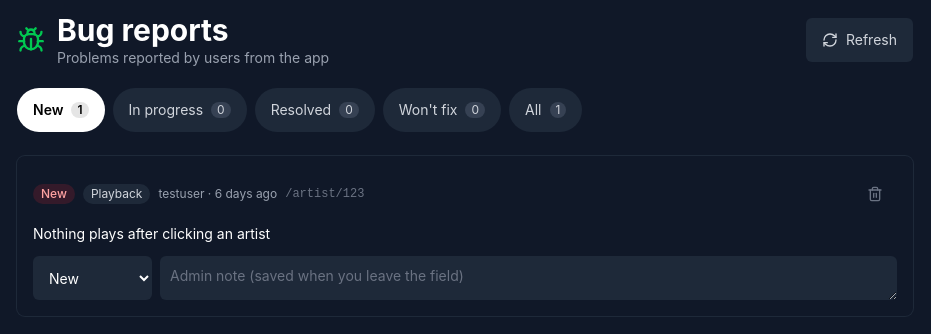
Test: AdminBugReports › deletes a report when the admin confirms
Expected: the text "Nothing plays after clicking an artist" is shown, [33, 225, 270, 242]
Click the button named "Delete this report".
click(875, 194)  # box [853, 172, 897, 216]
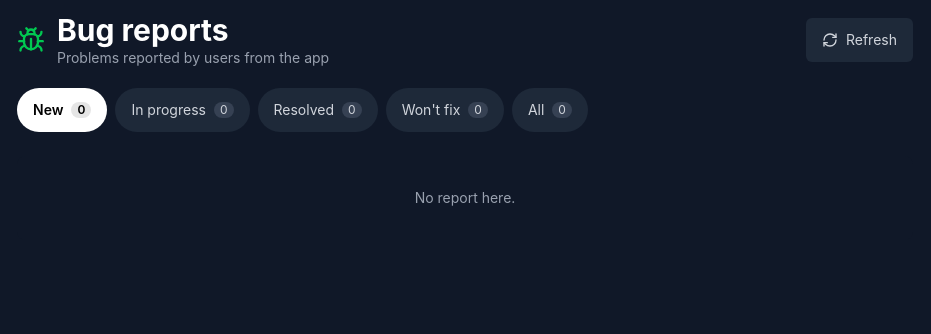
Expected: the text "Nothing plays after clicking an artist" is gone
Expected: the text "No report here." is shown, [17, 156, 913, 240]
